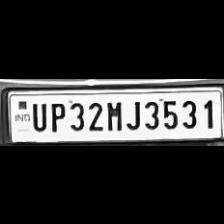1: (200, 95, 218, 129)
2: (85, 97, 103, 130)
3: (178, 96, 198, 128), (65, 97, 84, 130), (141, 97, 159, 129)
5: (160, 96, 178, 128)
J: (124, 96, 142, 130)
M: (102, 97, 124, 131)
P: (46, 99, 66, 131)
U: (27, 99, 47, 131)
